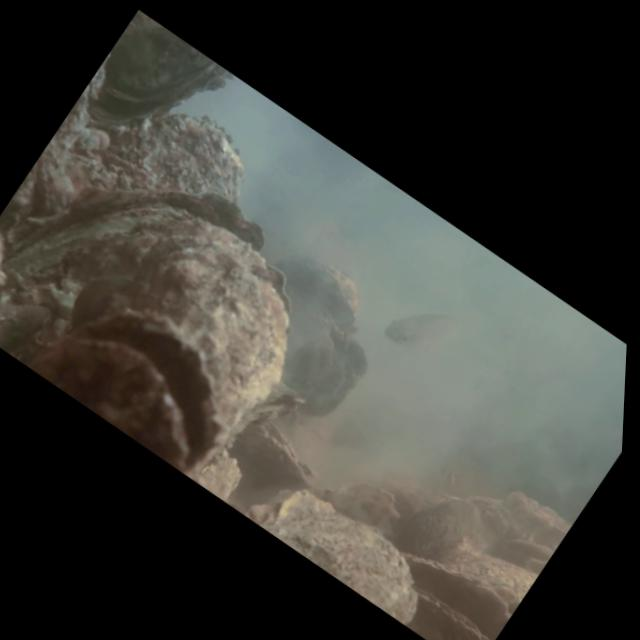Oyster-Closed: (68, 220, 292, 434), (6, 185, 262, 284), (397, 547, 511, 629), (241, 421, 318, 488), (413, 580, 492, 640)
Oyster-Indeterminate: (240, 485, 422, 627), (82, 10, 236, 131), (272, 248, 372, 419), (106, 113, 250, 208), (397, 493, 486, 551)
Oyster-Open: (52, 311, 229, 473), (494, 539, 555, 573)
